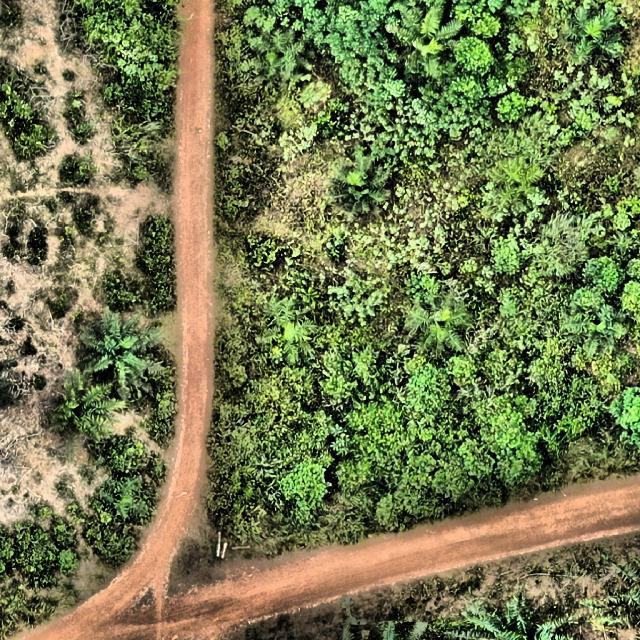Kelapa_Sawit: (80, 316, 164, 400), (257, 300, 330, 370), (404, 289, 474, 361), (558, 296, 630, 366), (52, 368, 118, 444), (330, 157, 396, 218)
